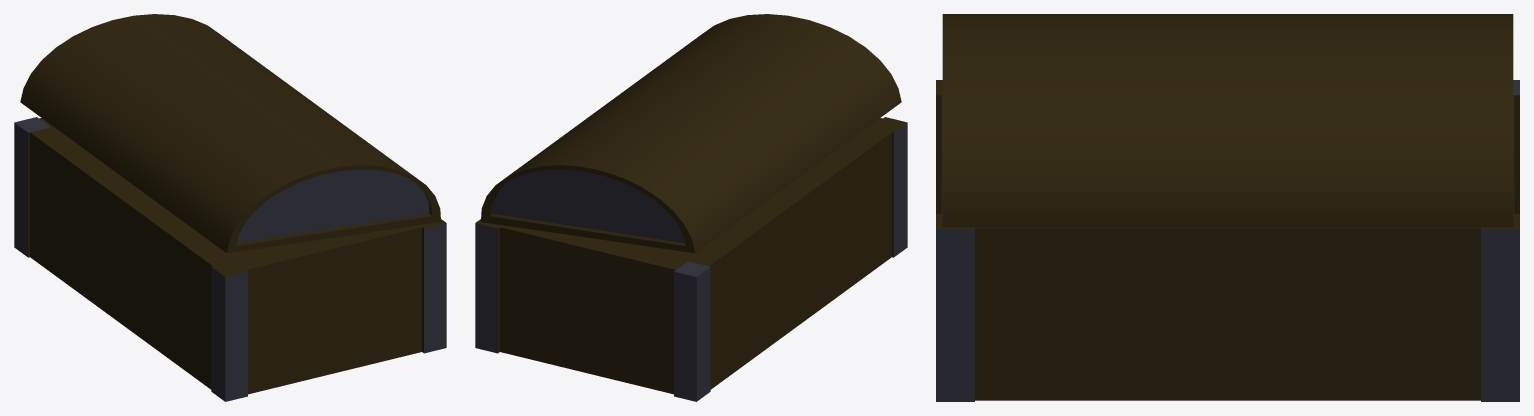
Rendered from Chest.fbx.
3 views of the same model, side by side, from view 1: azimuth 30°, elevation 25°; view 2: azimuth 150°, elevation 25°; view 3: azimuth 270°, elevation 25° (orthographic). The views are drawn at different scales.
Parts seen in each view (by area): view 1: Chest; view 2: Chest; view 3: Chest.
Boxes of the visible parts, left/top/right/bottom form: Chest: left=14, top=14, right=446, bottom=401; Chest: left=475, top=14, right=907, bottom=401; Chest: left=936, top=14, right=1519, bottom=401.
Size of the model in its own units: 103 by 91.23 by 170.
